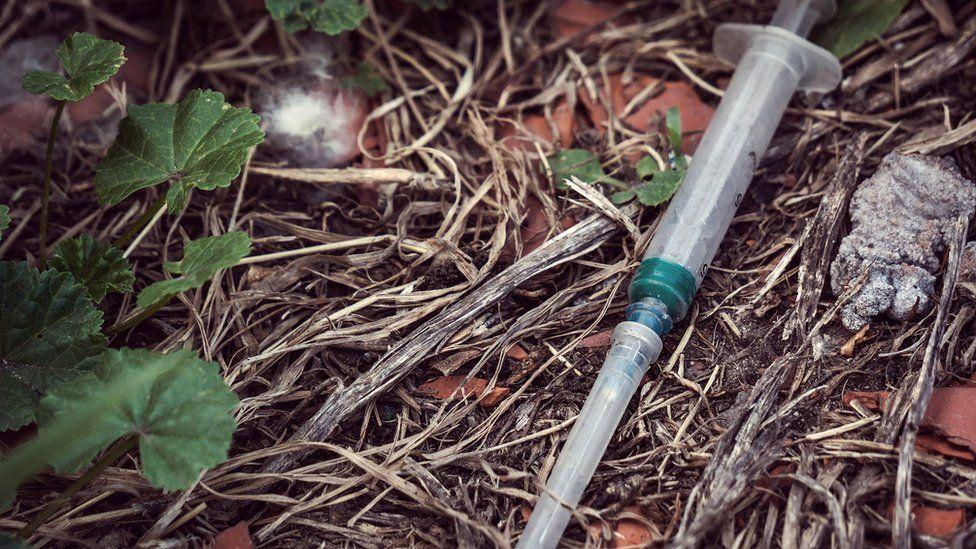Syringe: (518, 0, 840, 548)
